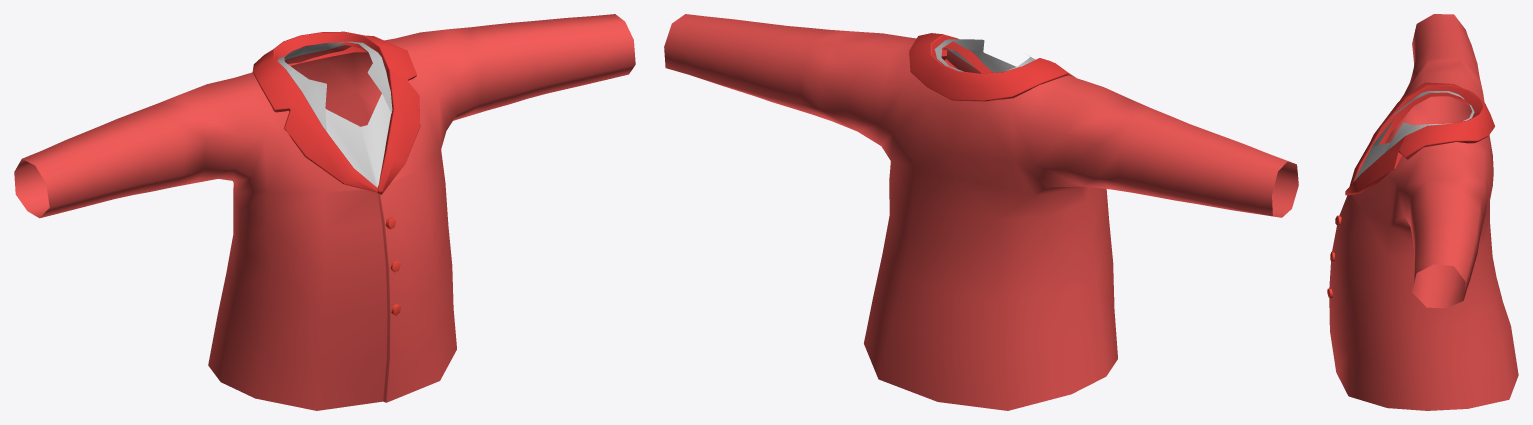
The model's file is Outerwear_Red_003.glb.
The picture shows the model from 3 angles, left to right: view 1: azimuth 30°, elevation 25°; view 2: azimuth 150°, elevation 25°; view 3: azimuth 270°, elevation 25°; orthographic projection. The views are drawn at different scales.
Parts seen in each view (by area): view 1: Outerwear_Red_003; view 2: Outerwear_Red_003; view 3: Outerwear_Red_003.
Boxes of the visible parts, left/top/right/bottom form: Outerwear_Red_003: left=14, top=14, right=635, bottom=410; Outerwear_Red_003: left=664, top=14, right=1298, bottom=410; Outerwear_Red_003: left=1327, top=14, right=1518, bottom=410.
Bounding box in the file's own units: 1.29 × 0.6477 × 0.4144.
1 material, 1 textured.
